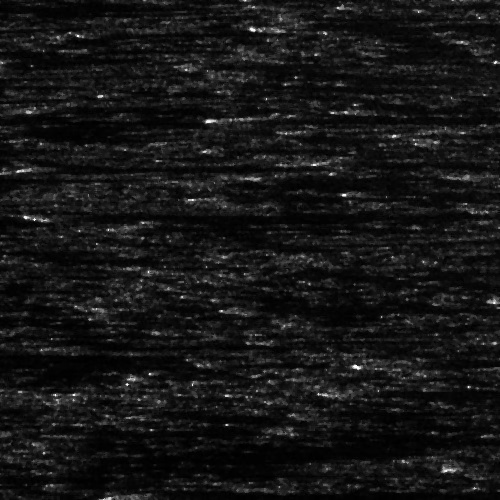object: (291, 356, 468, 371), (68, 486, 225, 500), (187, 109, 312, 126), (18, 25, 123, 38), (245, 327, 298, 352), (432, 125, 500, 142), (0, 210, 112, 219), (311, 386, 384, 397), (154, 59, 237, 68), (7, 162, 80, 171), (317, 187, 410, 194), (0, 252, 47, 265), (213, 302, 276, 311), (196, 191, 259, 200), (0, 52, 43, 65), (294, 405, 335, 416), (429, 172, 492, 177), (0, 426, 31, 433), (121, 224, 162, 227), (461, 206, 500, 209), (288, 23, 309, 26)
shadow: (0, 35, 171, 62), (250, 109, 500, 126), (147, 486, 433, 500), (54, 210, 430, 219), (227, 191, 500, 200), (0, 345, 115, 366), (244, 302, 495, 311), (71, 25, 215, 38), (44, 162, 245, 171), (380, 356, 500, 371), (17, 52, 153, 65), (6, 252, 126, 265), (0, 426, 218, 433), (272, 327, 333, 352), (348, 386, 472, 397), (315, 405, 437, 416), (196, 59, 338, 68), (364, 187, 500, 194), (0, 245, 85, 256), (142, 224, 397, 227), (299, 23, 500, 26), (0, 286, 41, 291), (460, 172, 500, 177)
